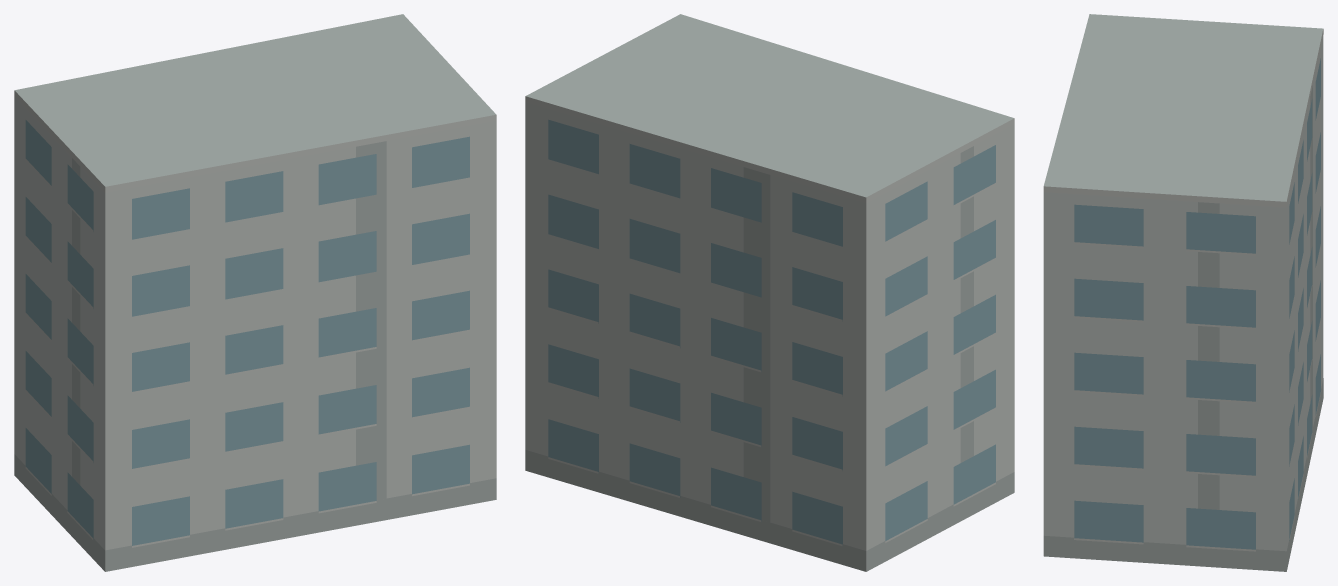
The model's file is survey-upis-32976228.glb.
3 renders of one model, left to right at view 1: azimuth 30°, elevation 25°; view 2: azimuth 150°, elevation 25°; view 3: azimuth 270°, elevation 25°, orthographic. The views are drawn at different scales.
Parts seen in each view (by area): view 1: survey-upis-32976228.tmp; view 2: survey-upis-32976228.tmp; view 3: survey-upis-32976228.tmp.
Part boxes in pixels (<box>): survey-upis-32976228.tmp: <box>14,14,496,571</box>; survey-upis-32976228.tmp: <box>525,14,1014,571</box>; survey-upis-32976228.tmp: <box>1043,14,1323,571</box>.
Bounding box in the file's own units: 16.61 × 15.25 × 10.46.
